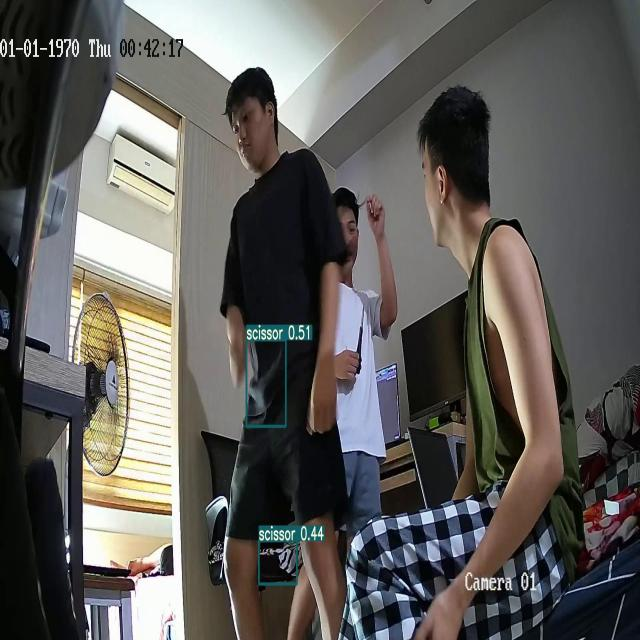scissor: (356, 302, 364, 374)
